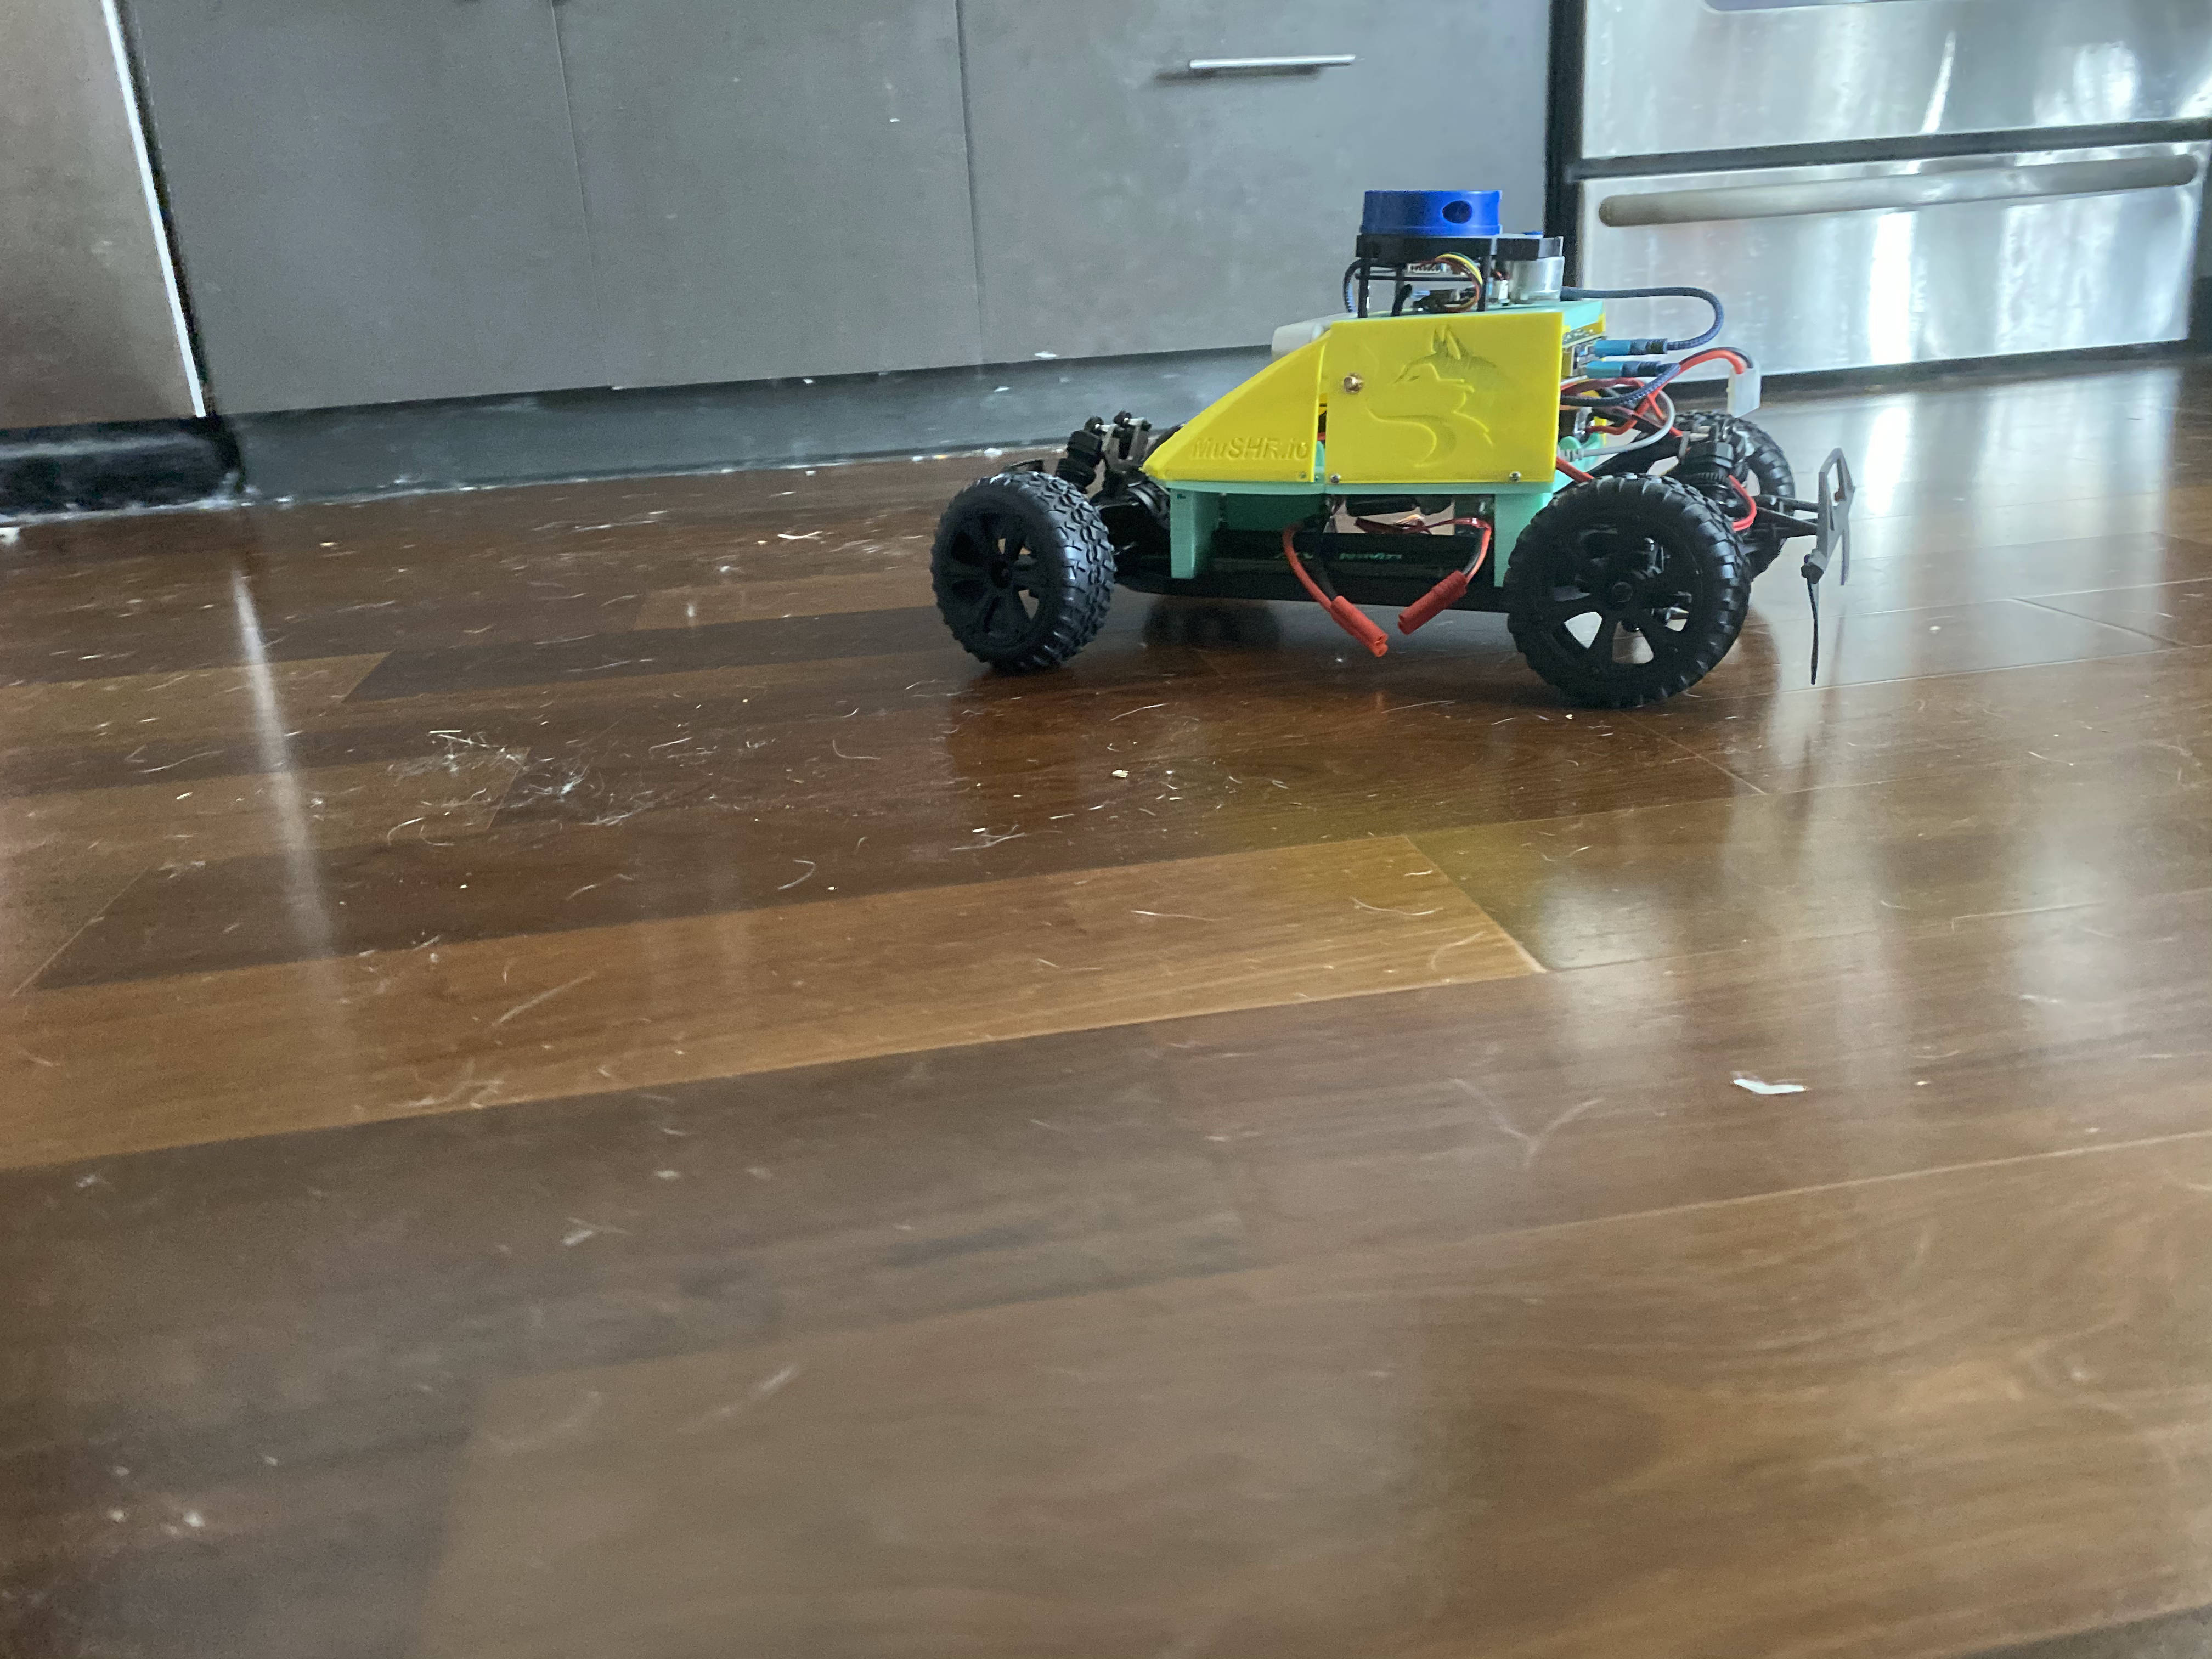mushr_car: (916, 178, 1879, 718)
